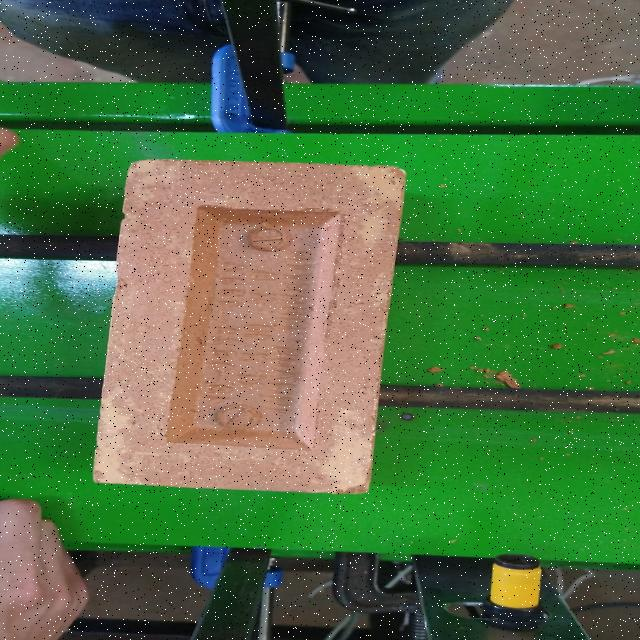bricks: (95, 162, 414, 495)
